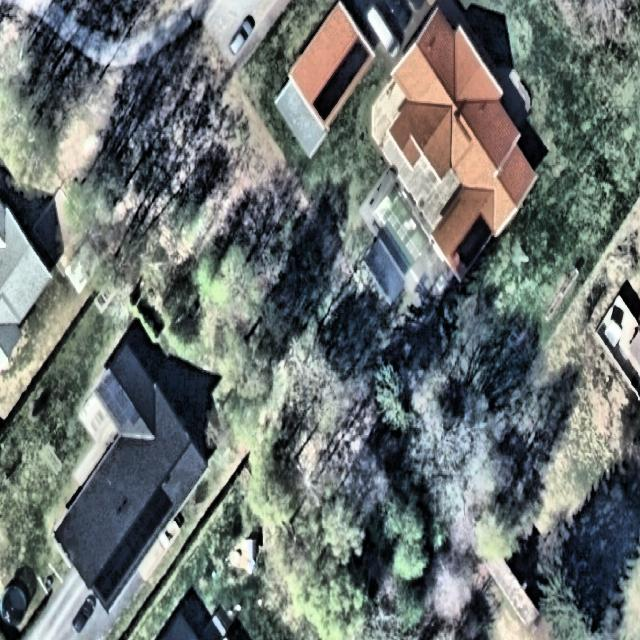roof_pv: (457, 212, 492, 269), (312, 55, 339, 127), (91, 541, 121, 605), (341, 34, 371, 96), (144, 482, 175, 542), (121, 513, 143, 581)
